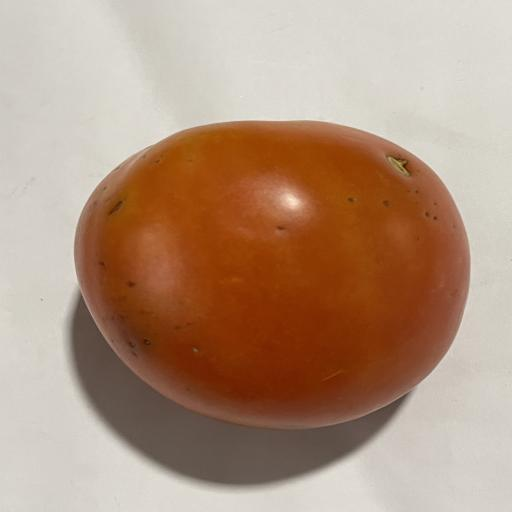ripe: (75, 121, 469, 429)
